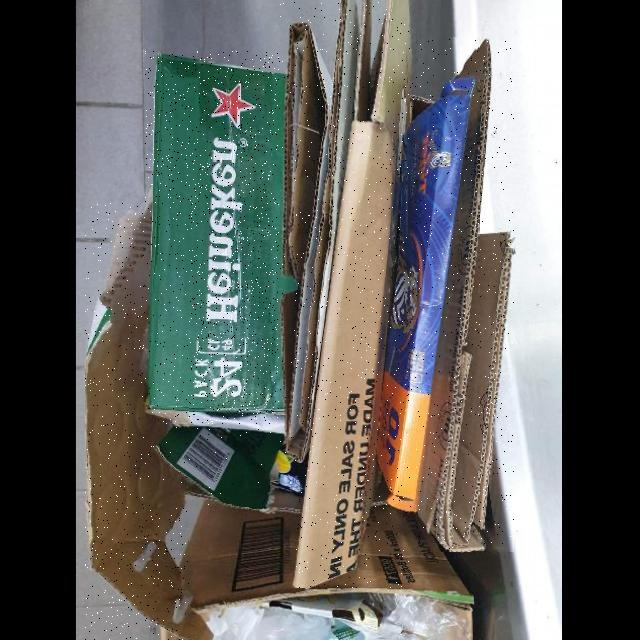paper: (294, 1, 410, 588), (145, 51, 297, 431), (418, 37, 514, 551), (85, 203, 189, 640), (376, 74, 475, 509), (279, 1, 362, 493), (155, 425, 285, 508)
